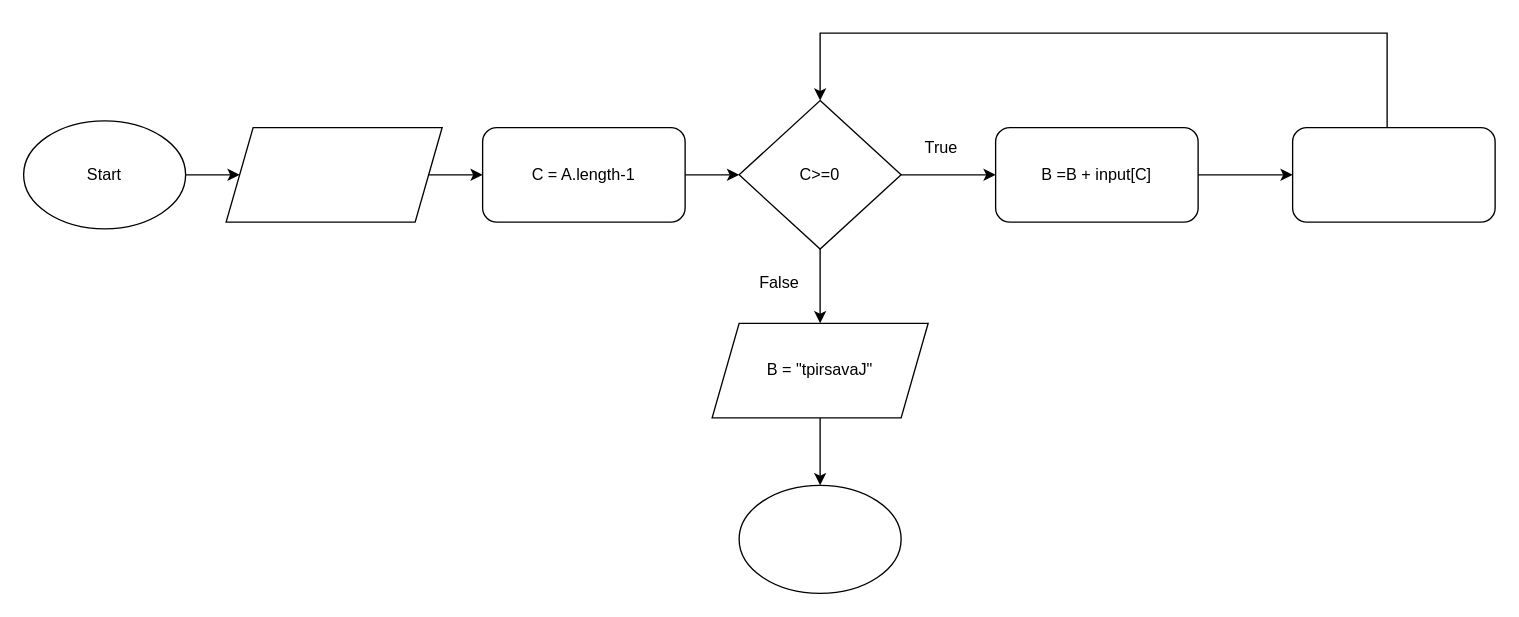
Image size: 1519x617. Some labels were removed from this diagram. The shapes that lost their labels are listed below. From the top down, each one's centre as x and y in pixels, then its label:
[333,174]: A = "Javascript" B =
[1393,174]: B =B -1
[819,538]: End
